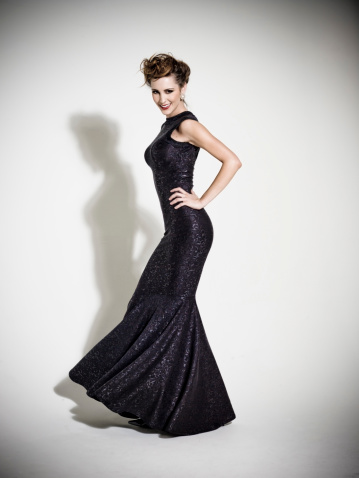em pe: (62, 35, 247, 459)
